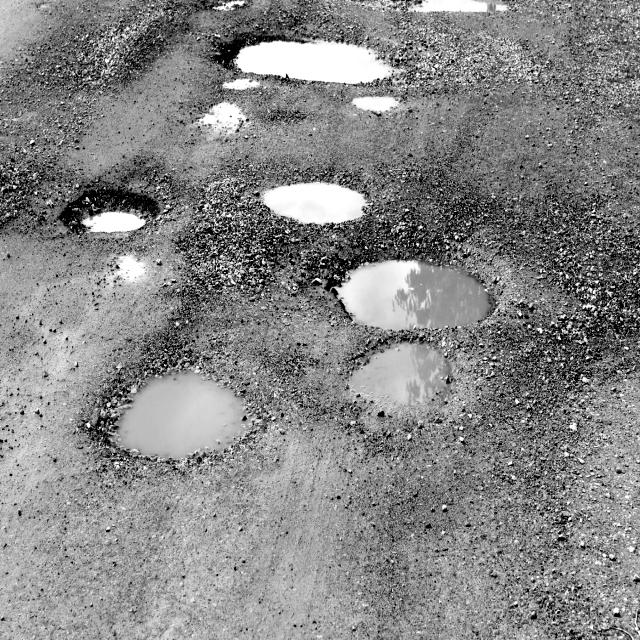pathole: (111, 174, 491, 458), (328, 334, 455, 476), (114, 373, 250, 461), (336, 259, 490, 331), (180, 178, 248, 297), (236, 41, 391, 85), (350, 343, 450, 405), (236, 43, 391, 79), (262, 180, 366, 225), (200, 103, 245, 135), (84, 212, 144, 234), (354, 96, 398, 114), (416, 0, 480, 12)
